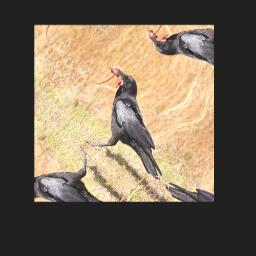Crow: (56, 55, 200, 197)
